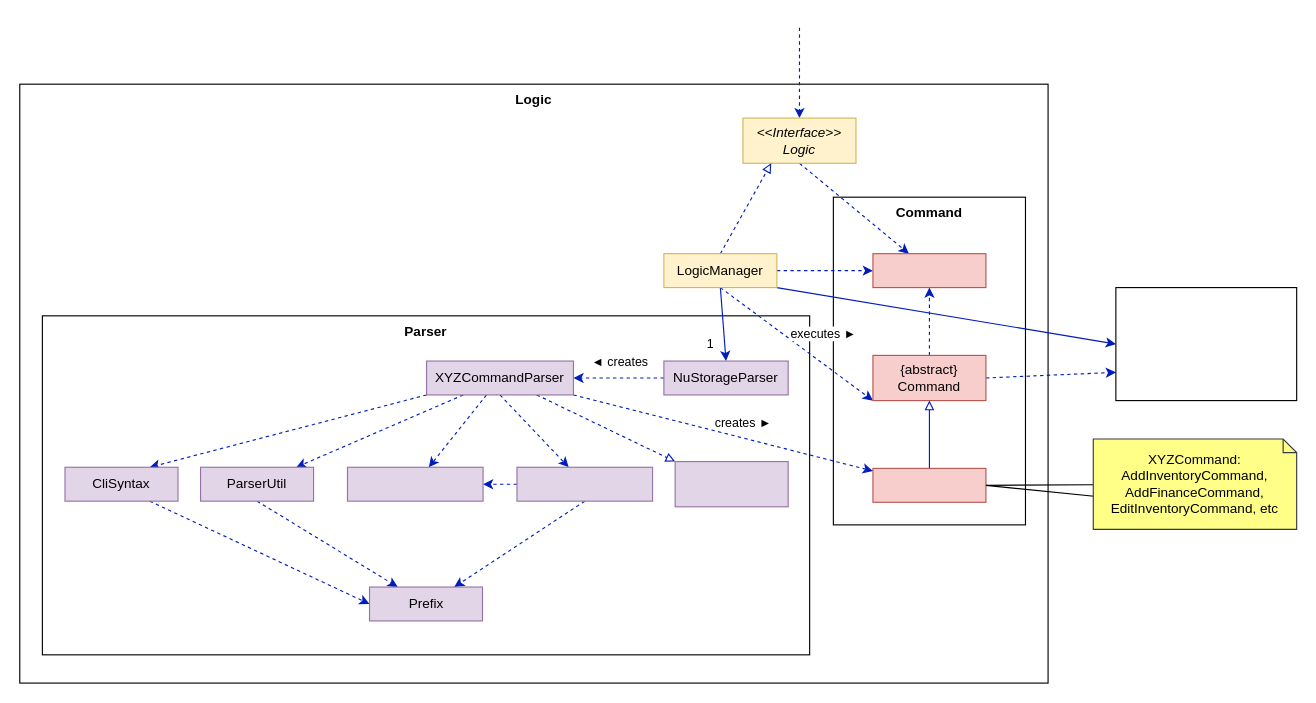
Some shapes in this 1316 by 703 pixel diagram are drawn without their labels. The shapes that lost their labels are listed below. From the top down, each one's centre as x and y in pixels, then its label:
pixel 929 270: CommandResult
pixel 1206 343: Model
pixel 414 483: ArgumentMultimap
pixel 584 483: ArgumentTokenizer
pixel 731 483: <<Interface>> Parser
pixel 929 484: XYZCommand
